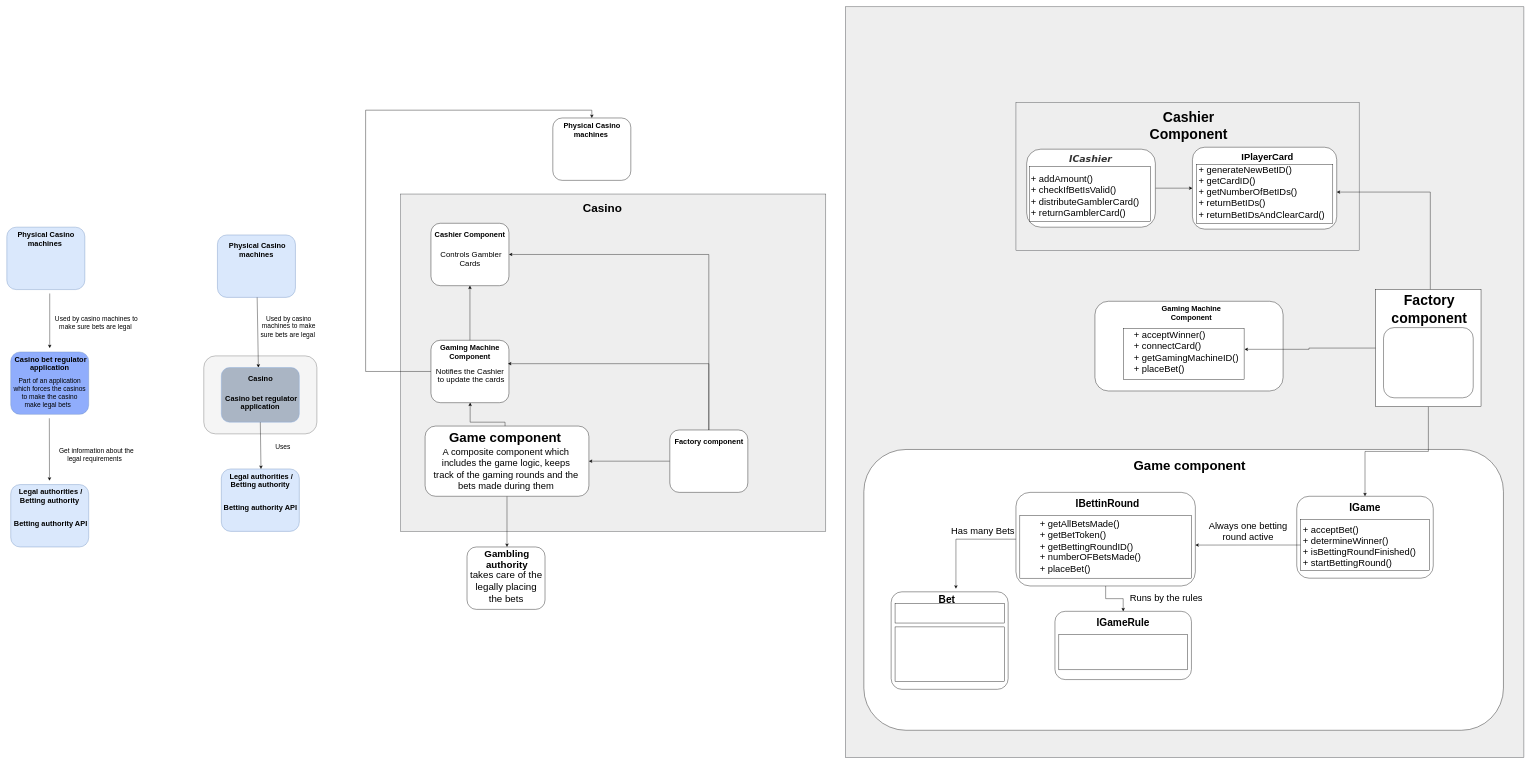
Image size: 1531x764. Some labels were removed from this diagram. Each missing label, with the centre of its shape:
"+ Bet() + getBetID() + getMoneyAmount()" goes at (x=949, y=654).
"+ determineWinner() + getMaxBetsPerRound()" goes at (x=1123, y=652).
"betID : BetIDmoney amount : MoneyAmount" goes at (x=949, y=613).
"Factory class" goes at (x=1428, y=362).
